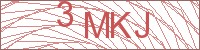3: (55, 1, 75, 28)
J: (134, 11, 151, 39)
K: (109, 11, 132, 39)
M: (83, 10, 109, 39)
